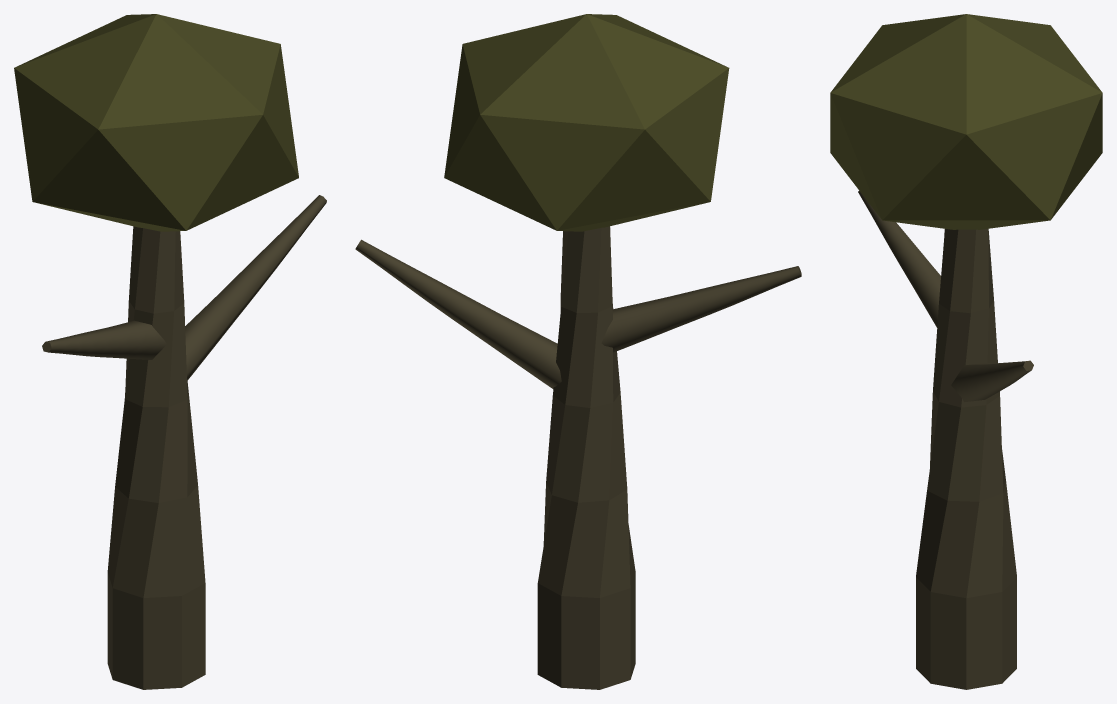
Rendered from tree.glb.
The picture shows the model from 3 angles, left to right: view 1: azimuth 30°, elevation 25°; view 2: azimuth 150°, elevation 25°; view 3: azimuth 270°, elevation 25°; orthographic projection.
Parts seen in each view (by area): view 1: Canopy, Trunk, Branch 1, Branch 2; view 2: Canopy, Trunk, Branch 1, Branch 2; view 3: Canopy, Trunk, Branch 2, Branch 1.
Part boxes in pixels (left/top/right/bottom): Canopy: left=14, top=14, right=298, bottom=231; Trunk: left=107, top=226, right=205, bottom=689; Branch 1: left=185, top=195, right=326, bottom=380; Branch 2: left=42, top=320, right=166, bottom=359; Canopy: left=444, top=14, right=729, bottom=231; Trunk: left=537, top=226, right=635, bottom=689; Branch 1: left=355, top=239, right=561, bottom=388; Branch 2: left=601, top=266, right=801, bottom=352; Canopy: left=830, top=14, right=1102, bottom=229; Trunk: left=916, top=228, right=1016, bottom=689; Branch 2: left=858, top=190, right=940, bottom=327; Branch 1: left=951, top=360, right=1033, bottom=402.
Size of the model in its own units: 1.37 by 2.35 by 0.8881.
